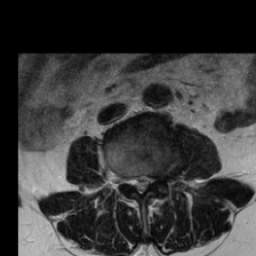CCS_stenosis: (137, 172, 145, 195)
LFS_severe_stenosis: (152, 171, 160, 190)
LLS_severe_stenosis: (145, 170, 152, 194)
RFS_stenosis: (122, 170, 129, 190)
RLS_stenosis: (130, 171, 138, 194)
